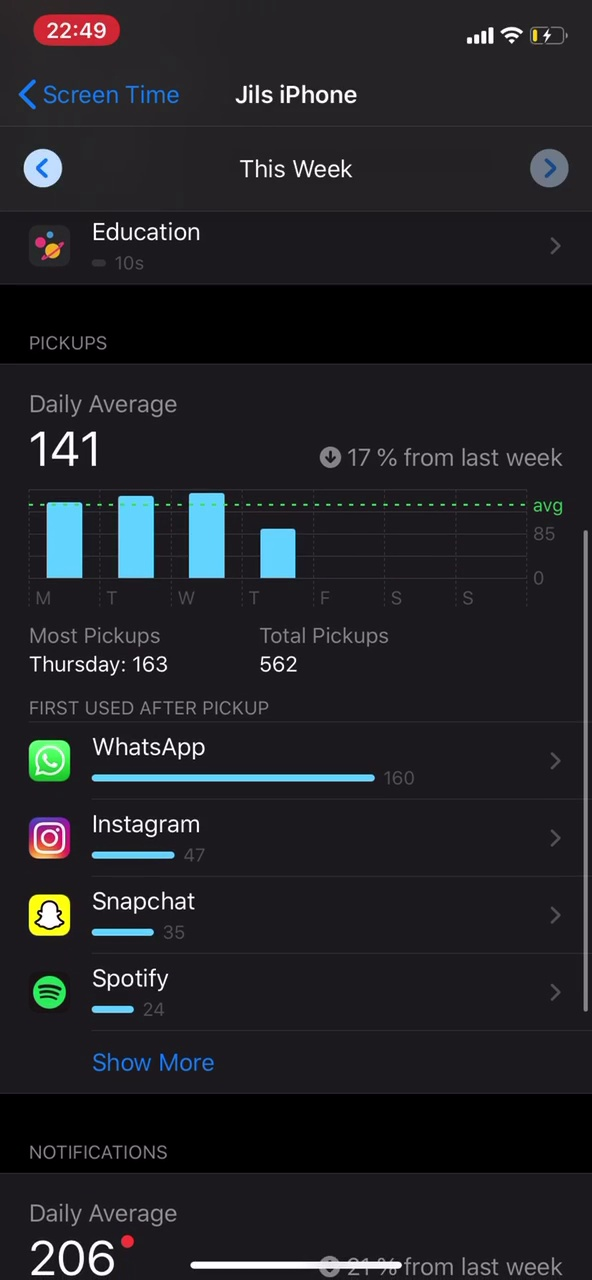not_over: (15, 1130, 186, 1277)
pick_app: (25, 727, 426, 796), (20, 888, 220, 953), (14, 810, 225, 869), (18, 964, 229, 1021), (16, 962, 227, 1019)
pick_over: (22, 619, 404, 686)
week: (233, 146, 366, 191)
